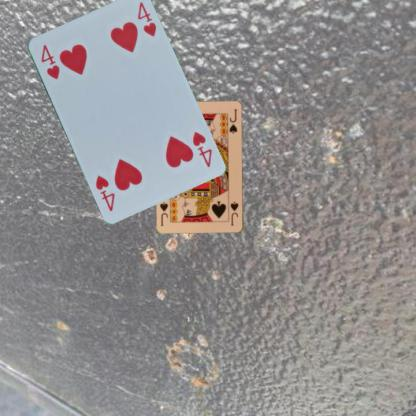4h: (189, 129, 213, 169), (38, 41, 60, 81)
Js: (228, 199, 240, 226)
